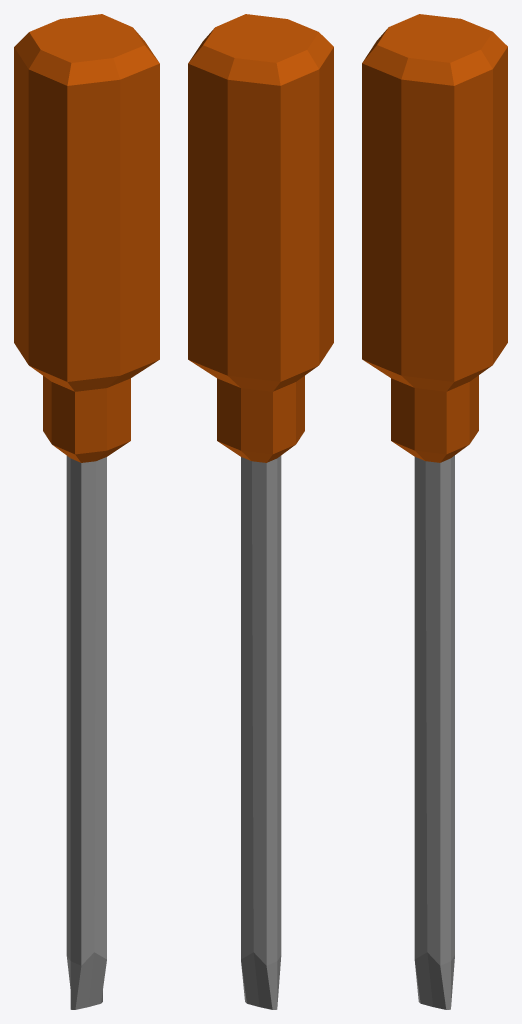
The model's file is Screwdriver.fbx.
3 renders of one model, left to right at view 1: azimuth 30°, elevation 25°; view 2: azimuth 150°, elevation 25°; view 3: azimuth 330°, elevation 25°, orthographic.
Parts seen in each view (by area): view 1: Screwdriver; view 2: Screwdriver; view 3: Screwdriver.
Boxes of the visible parts, x1,y1,x2,y2 form: Screwdriver: [14, 14, 159, 1009]; Screwdriver: [188, 14, 333, 1009]; Screwdriver: [362, 14, 507, 1009].
Bounding box in the file's own units: 3.36 × 26.74 × 3.36.
